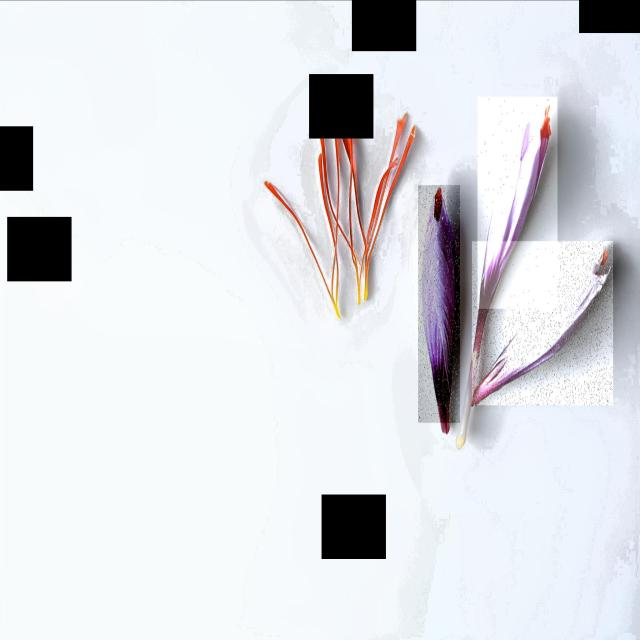Flower: (472, 241, 613, 405), (478, 96, 558, 308), (418, 185, 460, 422)
stigma: (260, 175, 340, 317), (364, 122, 421, 298), (361, 108, 412, 302), (316, 136, 372, 300), (314, 154, 341, 315), (333, 137, 343, 317), (540, 114, 553, 144)
